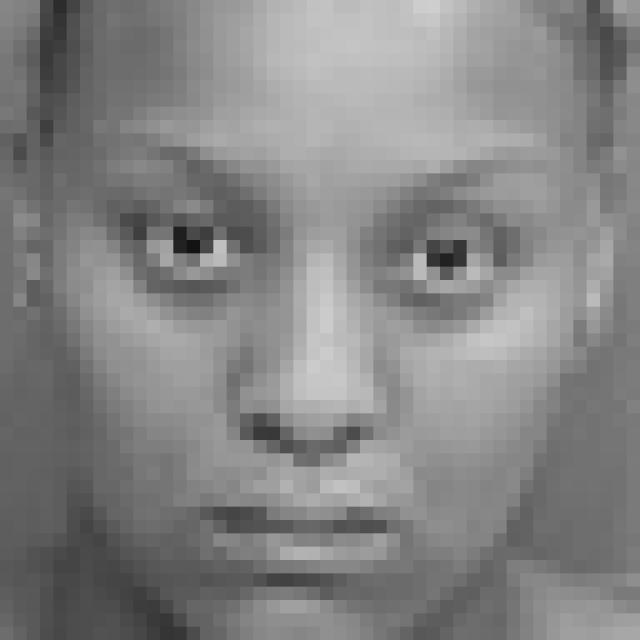neutral: (106, 131, 553, 592)
